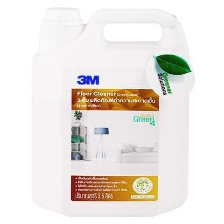cleaning_solution: (26, 3, 196, 221)
